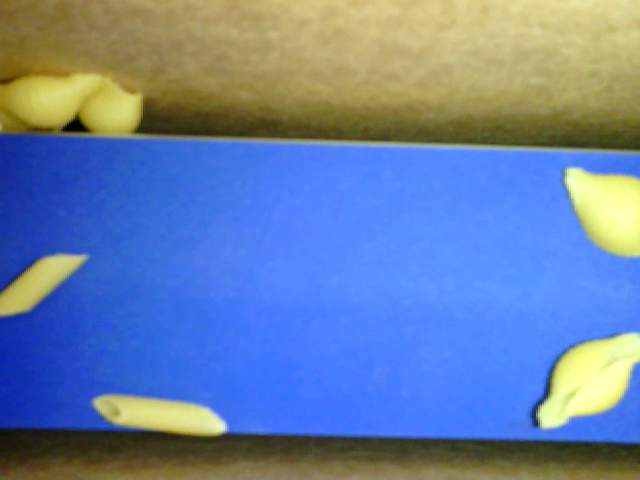penne: (1, 252, 90, 323), (91, 395, 229, 439)
shell: (539, 333, 639, 426), (559, 166, 639, 261), (1, 69, 105, 125), (76, 78, 144, 137), (1, 108, 67, 130)
